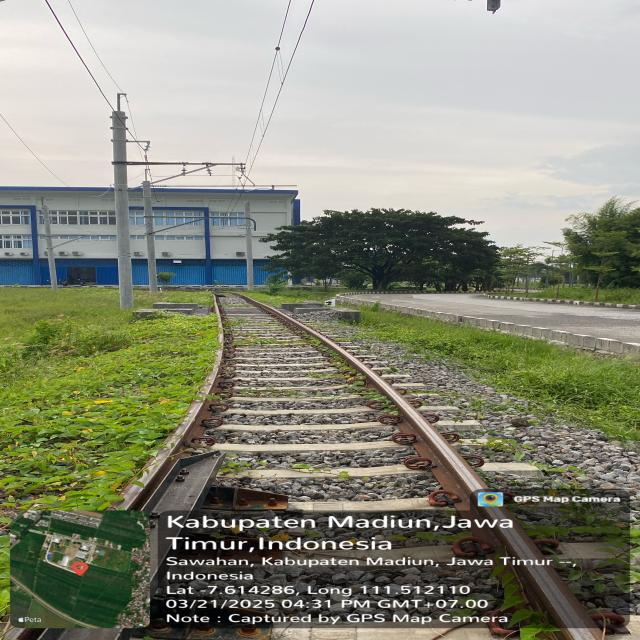rail-detection: (240, 296, 509, 520), (110, 294, 224, 510), (480, 507, 600, 640), (396, 400, 486, 497), (535, 563, 599, 640), (474, 522, 534, 555)
